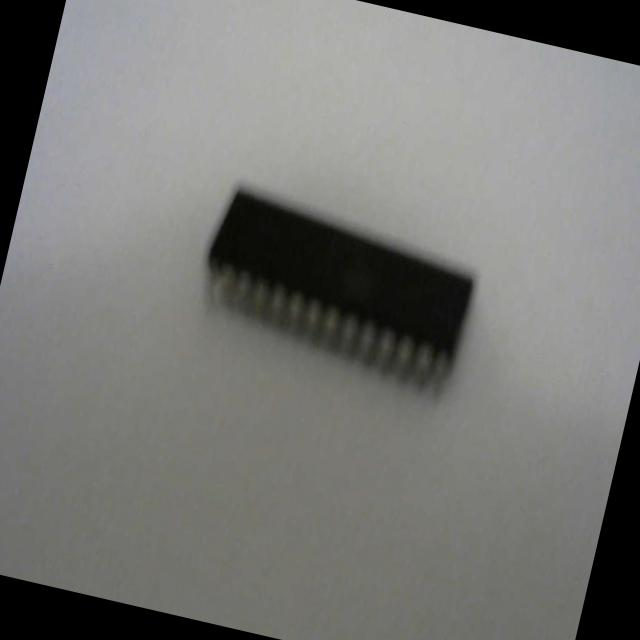atmega: (184, 174, 489, 404)
